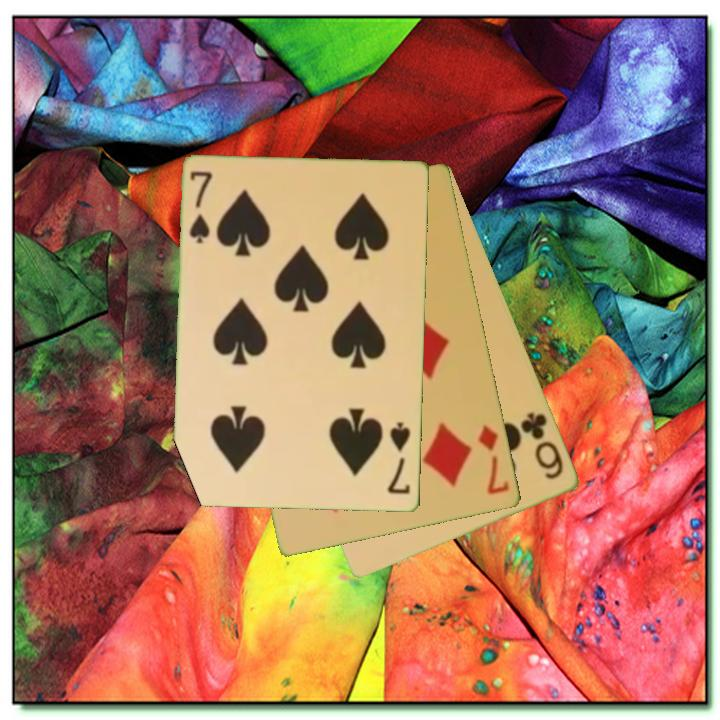6c: (517, 409, 567, 483)
7d: (475, 422, 513, 498)
7s: (385, 419, 414, 498), (187, 168, 216, 247)
